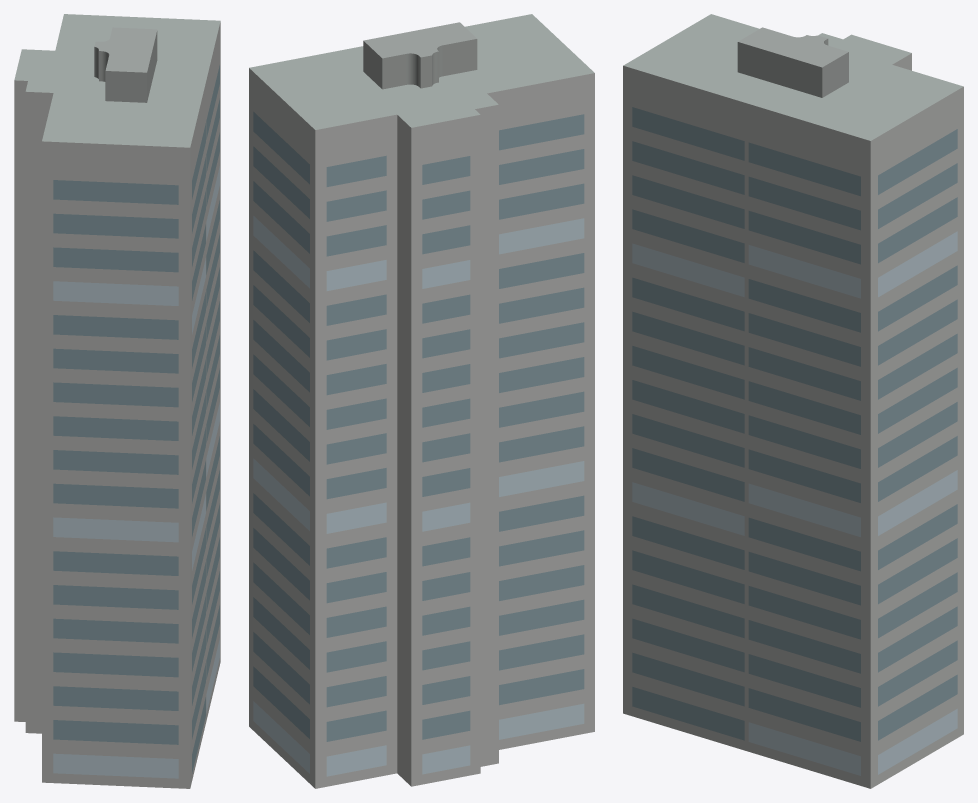
Rendered from fallback-jamsil-trizium-325.glb.
3 views of the same model, side by side, from view 1: azimuth 30°, elevation 25°; view 2: azimuth 150°, elevation 25°; view 3: azimuth 270°, elevation 25° (orthographic). The views are drawn at different scales.
Visible parts, largest first — view 1: fallback-jamsil-trizium-325; view 2: fallback-jamsil-trizium-325; view 3: fallback-jamsil-trizium-325.
Boxes of the visible parts, x1,y1,x2,y2 form: fallback-jamsil-trizium-325: (14, 14, 220, 788); fallback-jamsil-trizium-325: (249, 14, 594, 788); fallback-jamsil-trizium-325: (623, 14, 963, 788).
Size of the model in its own units: 21.29 by 53 by 24.12.
